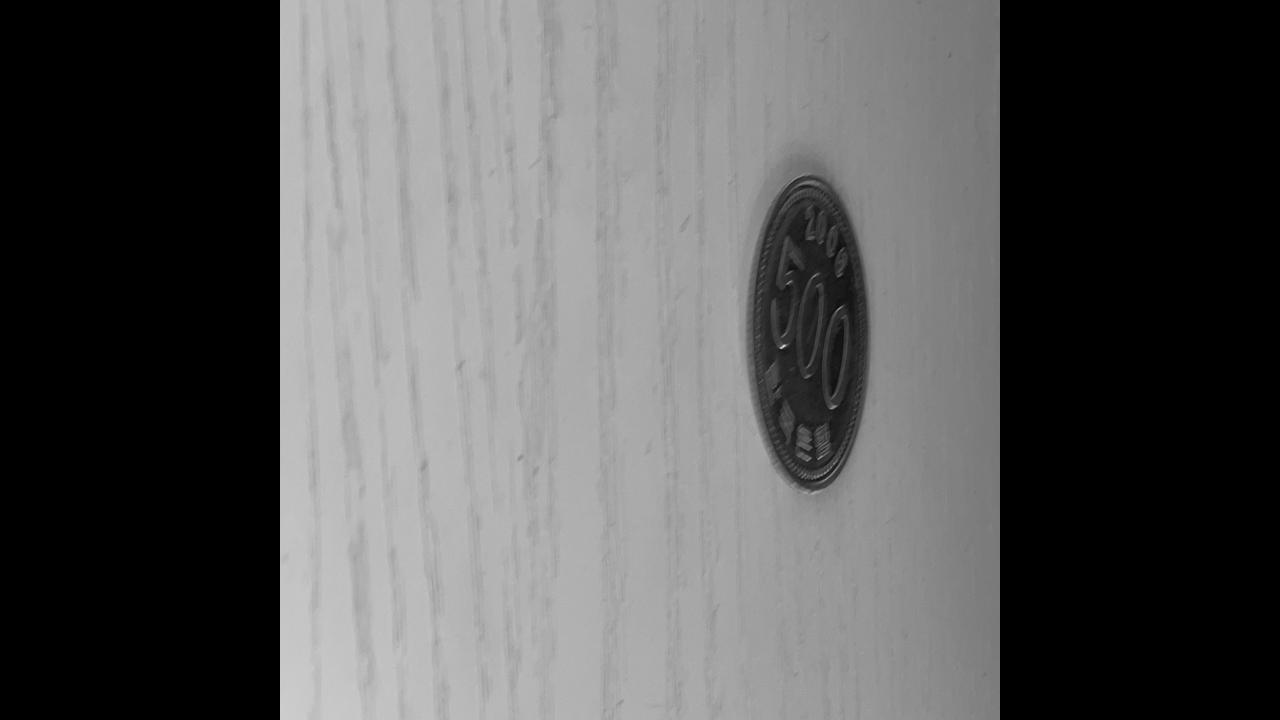coin: (748, 167, 868, 496)
